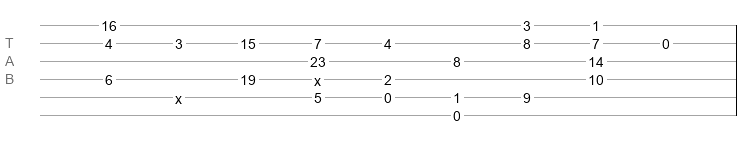0: (384, 90, 392, 100), (453, 108, 461, 118), (662, 36, 670, 46)
1: (453, 90, 461, 100), (592, 18, 600, 28)
10: (588, 72, 604, 82)
14: (588, 54, 604, 64)
15: (240, 36, 256, 46)
16: (101, 18, 117, 28)
19: (240, 72, 256, 82)
2: (384, 72, 392, 82)
23: (310, 54, 326, 64)
3: (175, 36, 183, 46), (523, 18, 531, 28)
4: (105, 36, 113, 46), (384, 36, 392, 46)
5: (314, 90, 322, 100)
6: (105, 72, 113, 82)
7: (314, 36, 322, 46), (592, 36, 600, 46)
8: (453, 54, 461, 64), (523, 36, 531, 46)
9: (523, 90, 531, 100)
x: (175, 91, 182, 99), (314, 73, 321, 81)
